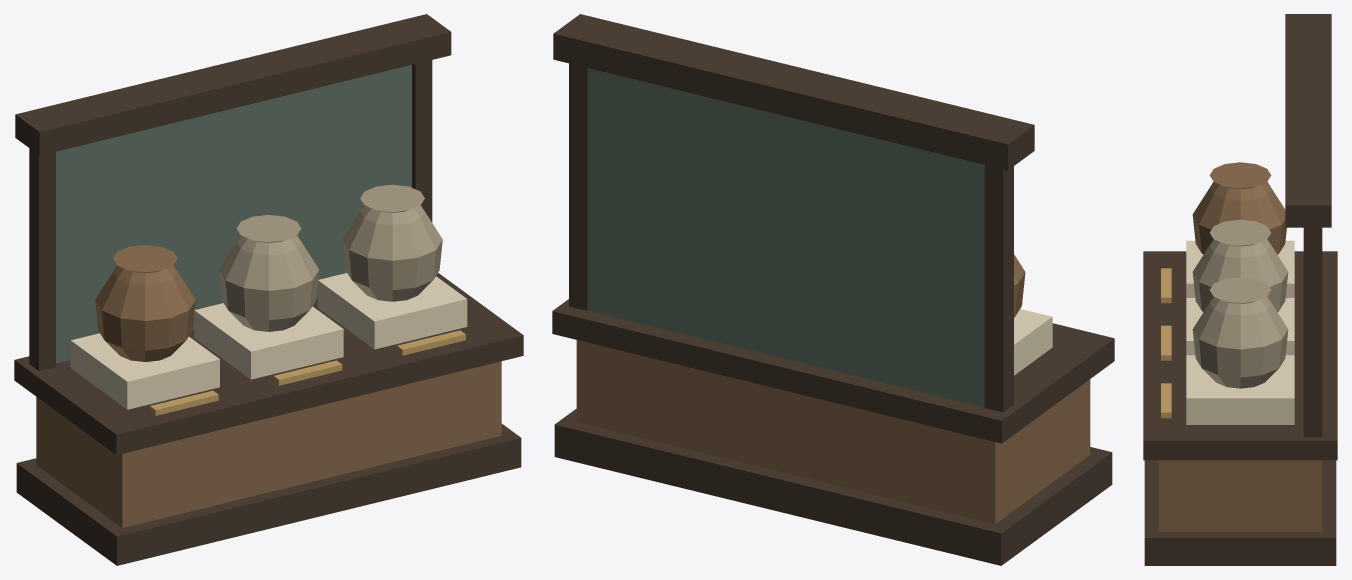
File: 05_Relic_Showcase.fbx
3 views of the same model, side by side, from view 1: azimuth 30°, elevation 25°; view 2: azimuth 150°, elevation 25°; view 3: azimuth 270°, elevation 25° (orthographic). The views are drawn at different scales.
Parts seen in each view (by area): view 1: Structure.004; view 2: Structure.004; view 3: Structure.004.
Boxes of the visible parts, bbox=[...] form: Structure.004: bbox=[14, 14, 523, 565]; Structure.004: bbox=[552, 14, 1114, 565]; Structure.004: bbox=[1143, 14, 1337, 565].
Size of the model in its own units: 293 by 259 by 126.
